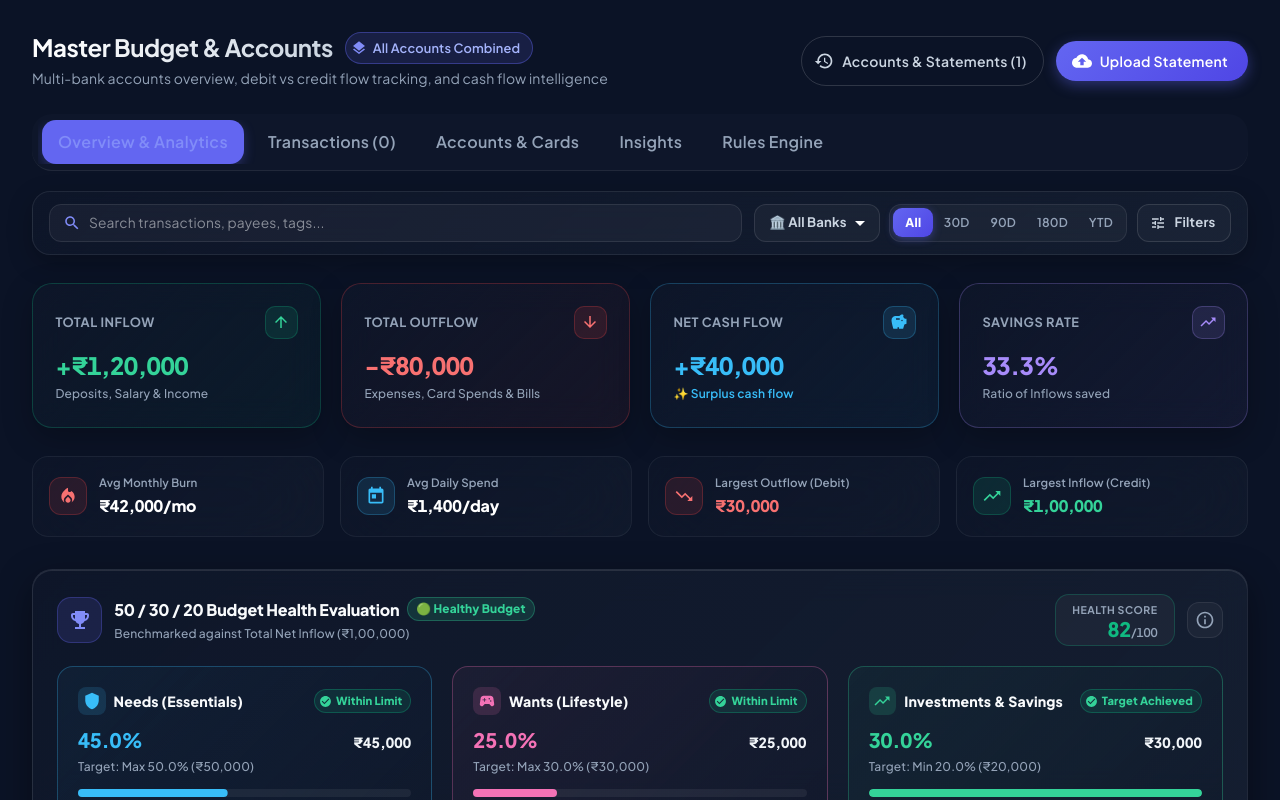
Test: BudgetDashboard › opens upload statement modal
expect the heading "Master Budget & Accounts" is shown: met, box [32,33,333,63]
Click the button "Upload Statement".
click(1152, 61)  # box [1056,41,1248,81]
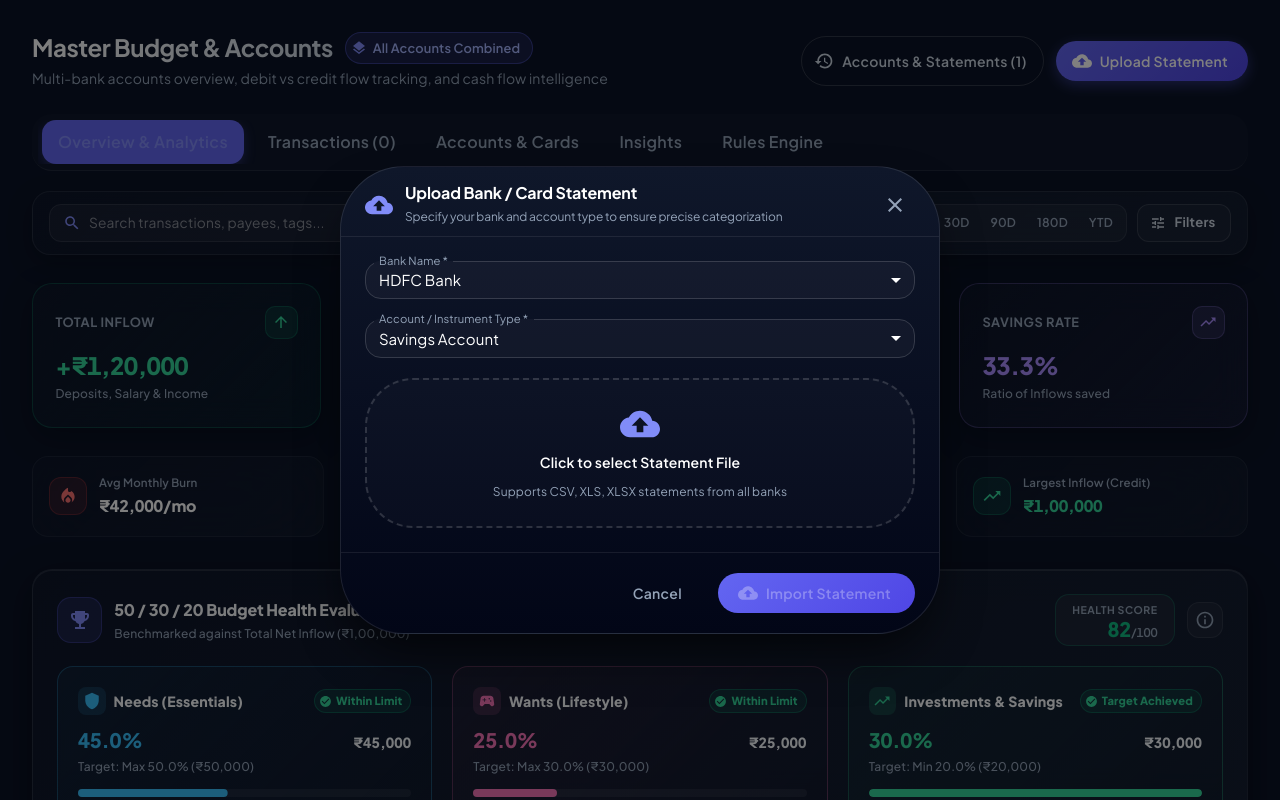
expect the heading "Upload Bank / Card Statement" is shown: met, box [405,182,637,203]
